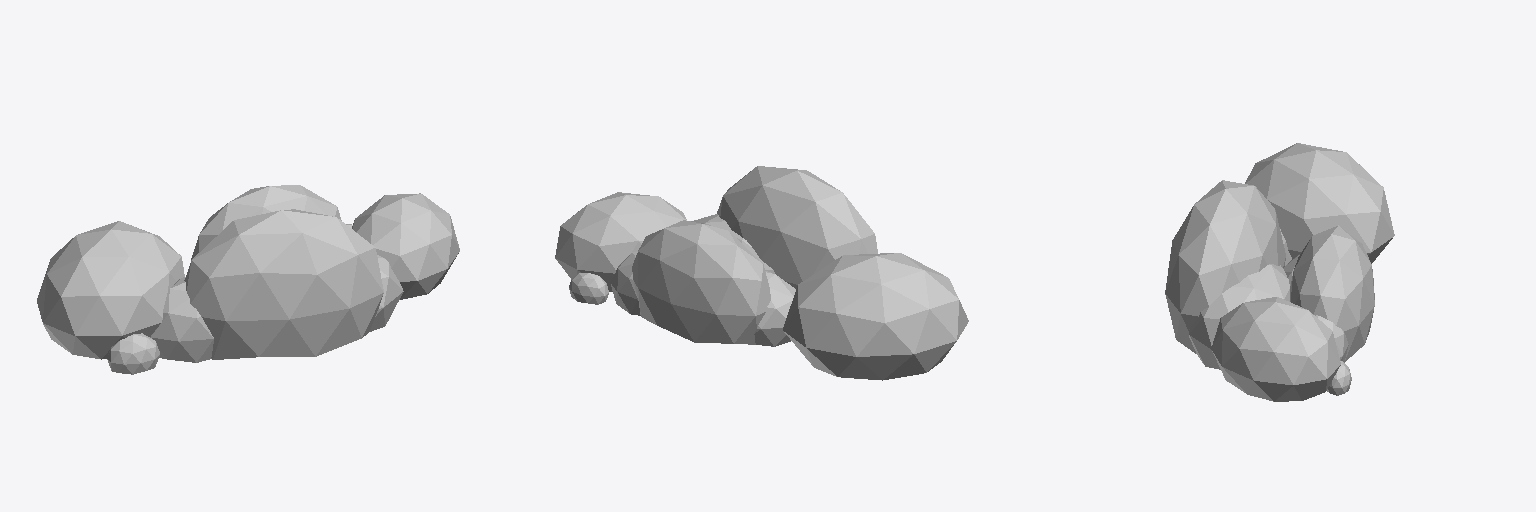
Rendered from struiken.obj.
3 views of the same model, side by side, from view 1: azimuth 30°, elevation 25°; view 2: azimuth 150°, elevation 25°; view 3: azimuth 270°, elevation 25° (orthographic).
Parts seen in each view (by area): view 1: Icosphere; view 2: Icosphere; view 3: Icosphere.
Boxes of the visible parts, x1,y1,x2,y2 form: Icosphere: [37, 185, 459, 374]; Icosphere: [555, 166, 968, 380]; Icosphere: [1165, 143, 1394, 401].
Bounding box in the file's own units: 10.47 × 3.29 × 5.18.